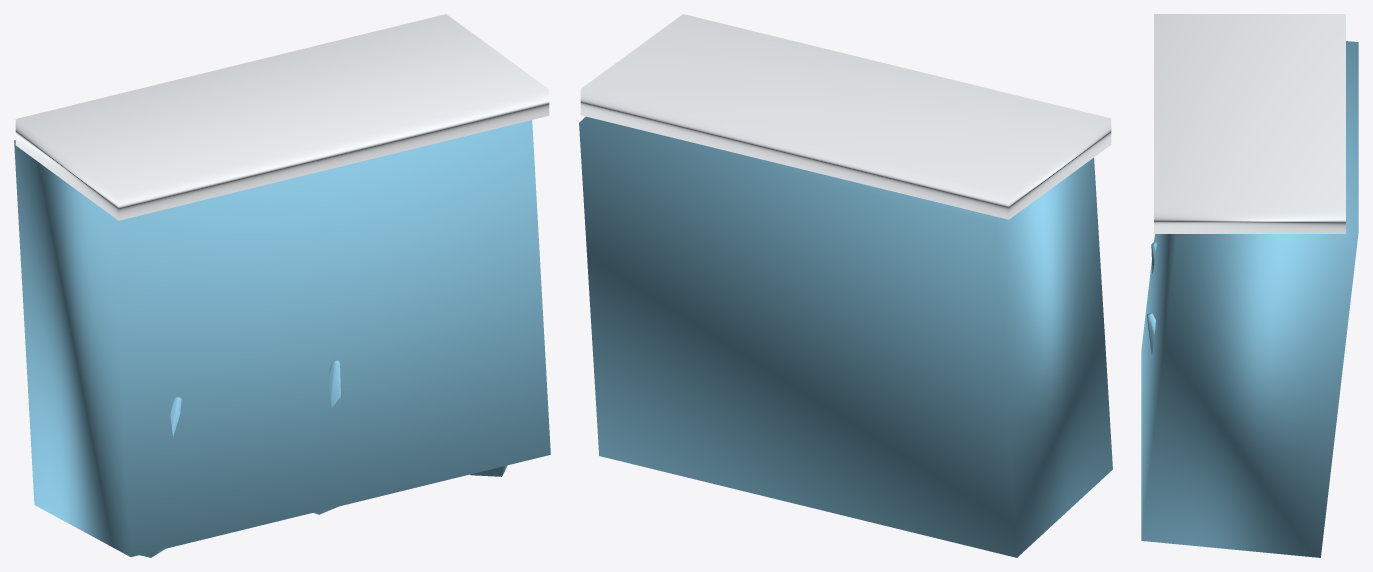
Rendered from rock_glacial_echo_cliff.glb.
3 renders of one model, left to right at view 1: azimuth 30°, elevation 25°; view 2: azimuth 150°, elevation 25°; view 3: azimuth 270°, elevation 25°, orthographic. The views are drawn at different scales.
Parts seen in each view (by area): view 1: Glacial_Cliff_Massif, Snow_Crust_Apex; view 2: Glacial_Cliff_Massif, Snow_Crust_Apex; view 3: Glacial_Cliff_Massif, Snow_Crust_Apex.
Part boxes in pixels (x1,y1,x2,y2): Glacial_Cliff_Massif: (14, 120, 550, 556); Snow_Crust_Apex: (15, 14, 549, 220); Glacial_Cliff_Massif: (579, 116, 1112, 557); Snow_Crust_Apex: (580, 14, 1111, 219); Glacial_Cliff_Massif: (1141, 41, 1358, 557); Snow_Crust_Apex: (1154, 14, 1345, 233).
Size of the model in its own units: 20.5 by 17.17 by 9.63.
